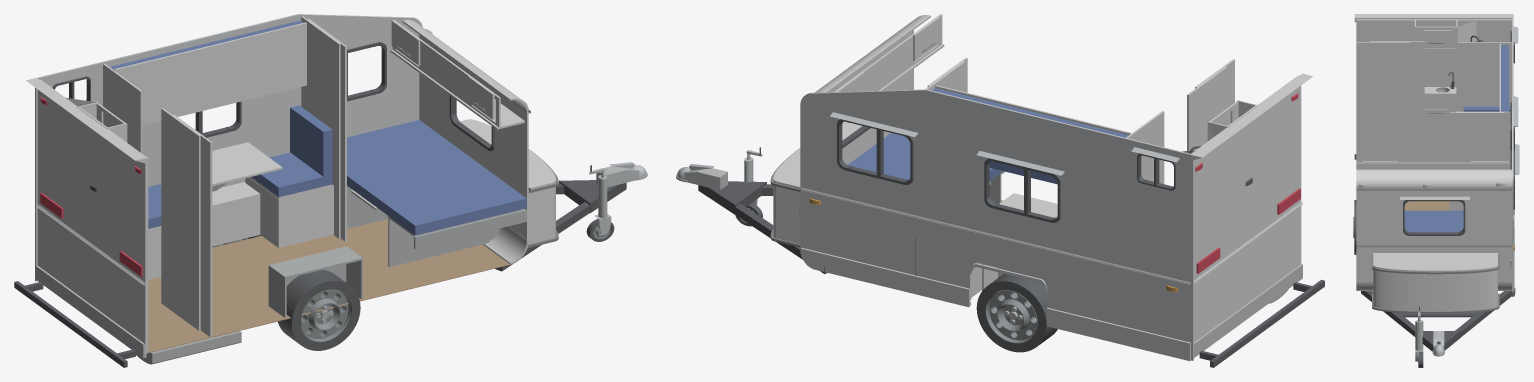
Rendered from CORTE INTERIOR A - VIAJE.glb.
3 views of the same model, side by side, from view 1: azimuth 30°, elevation 25°; view 2: azimuth 150°, elevation 25°; view 3: azimuth 270°, elevation 25° (orthographic). The views are drawn at different scales.
Visible parts, largest first — view 1: Mesh_Mesh_head_geo.001_lambert2SG.001; view 2: Mesh_Mesh_head_geo.001_lambert2SG.001; view 3: Mesh_Mesh_head_geo.001_lambert2SG.001.
Boxes of the visible parts, <box> form: Mesh_Mesh_head_geo.001_lambert2SG.001: <box>14,14,647,367</box>; Mesh_Mesh_head_geo.001_lambert2SG.001: <box>676,14,1324,367</box>; Mesh_Mesh_head_geo.001_lambert2SG.001: <box>1353,14,1519,367</box>.
Size of the model in its own units: 0.312 by 0.122 by 0.107.
